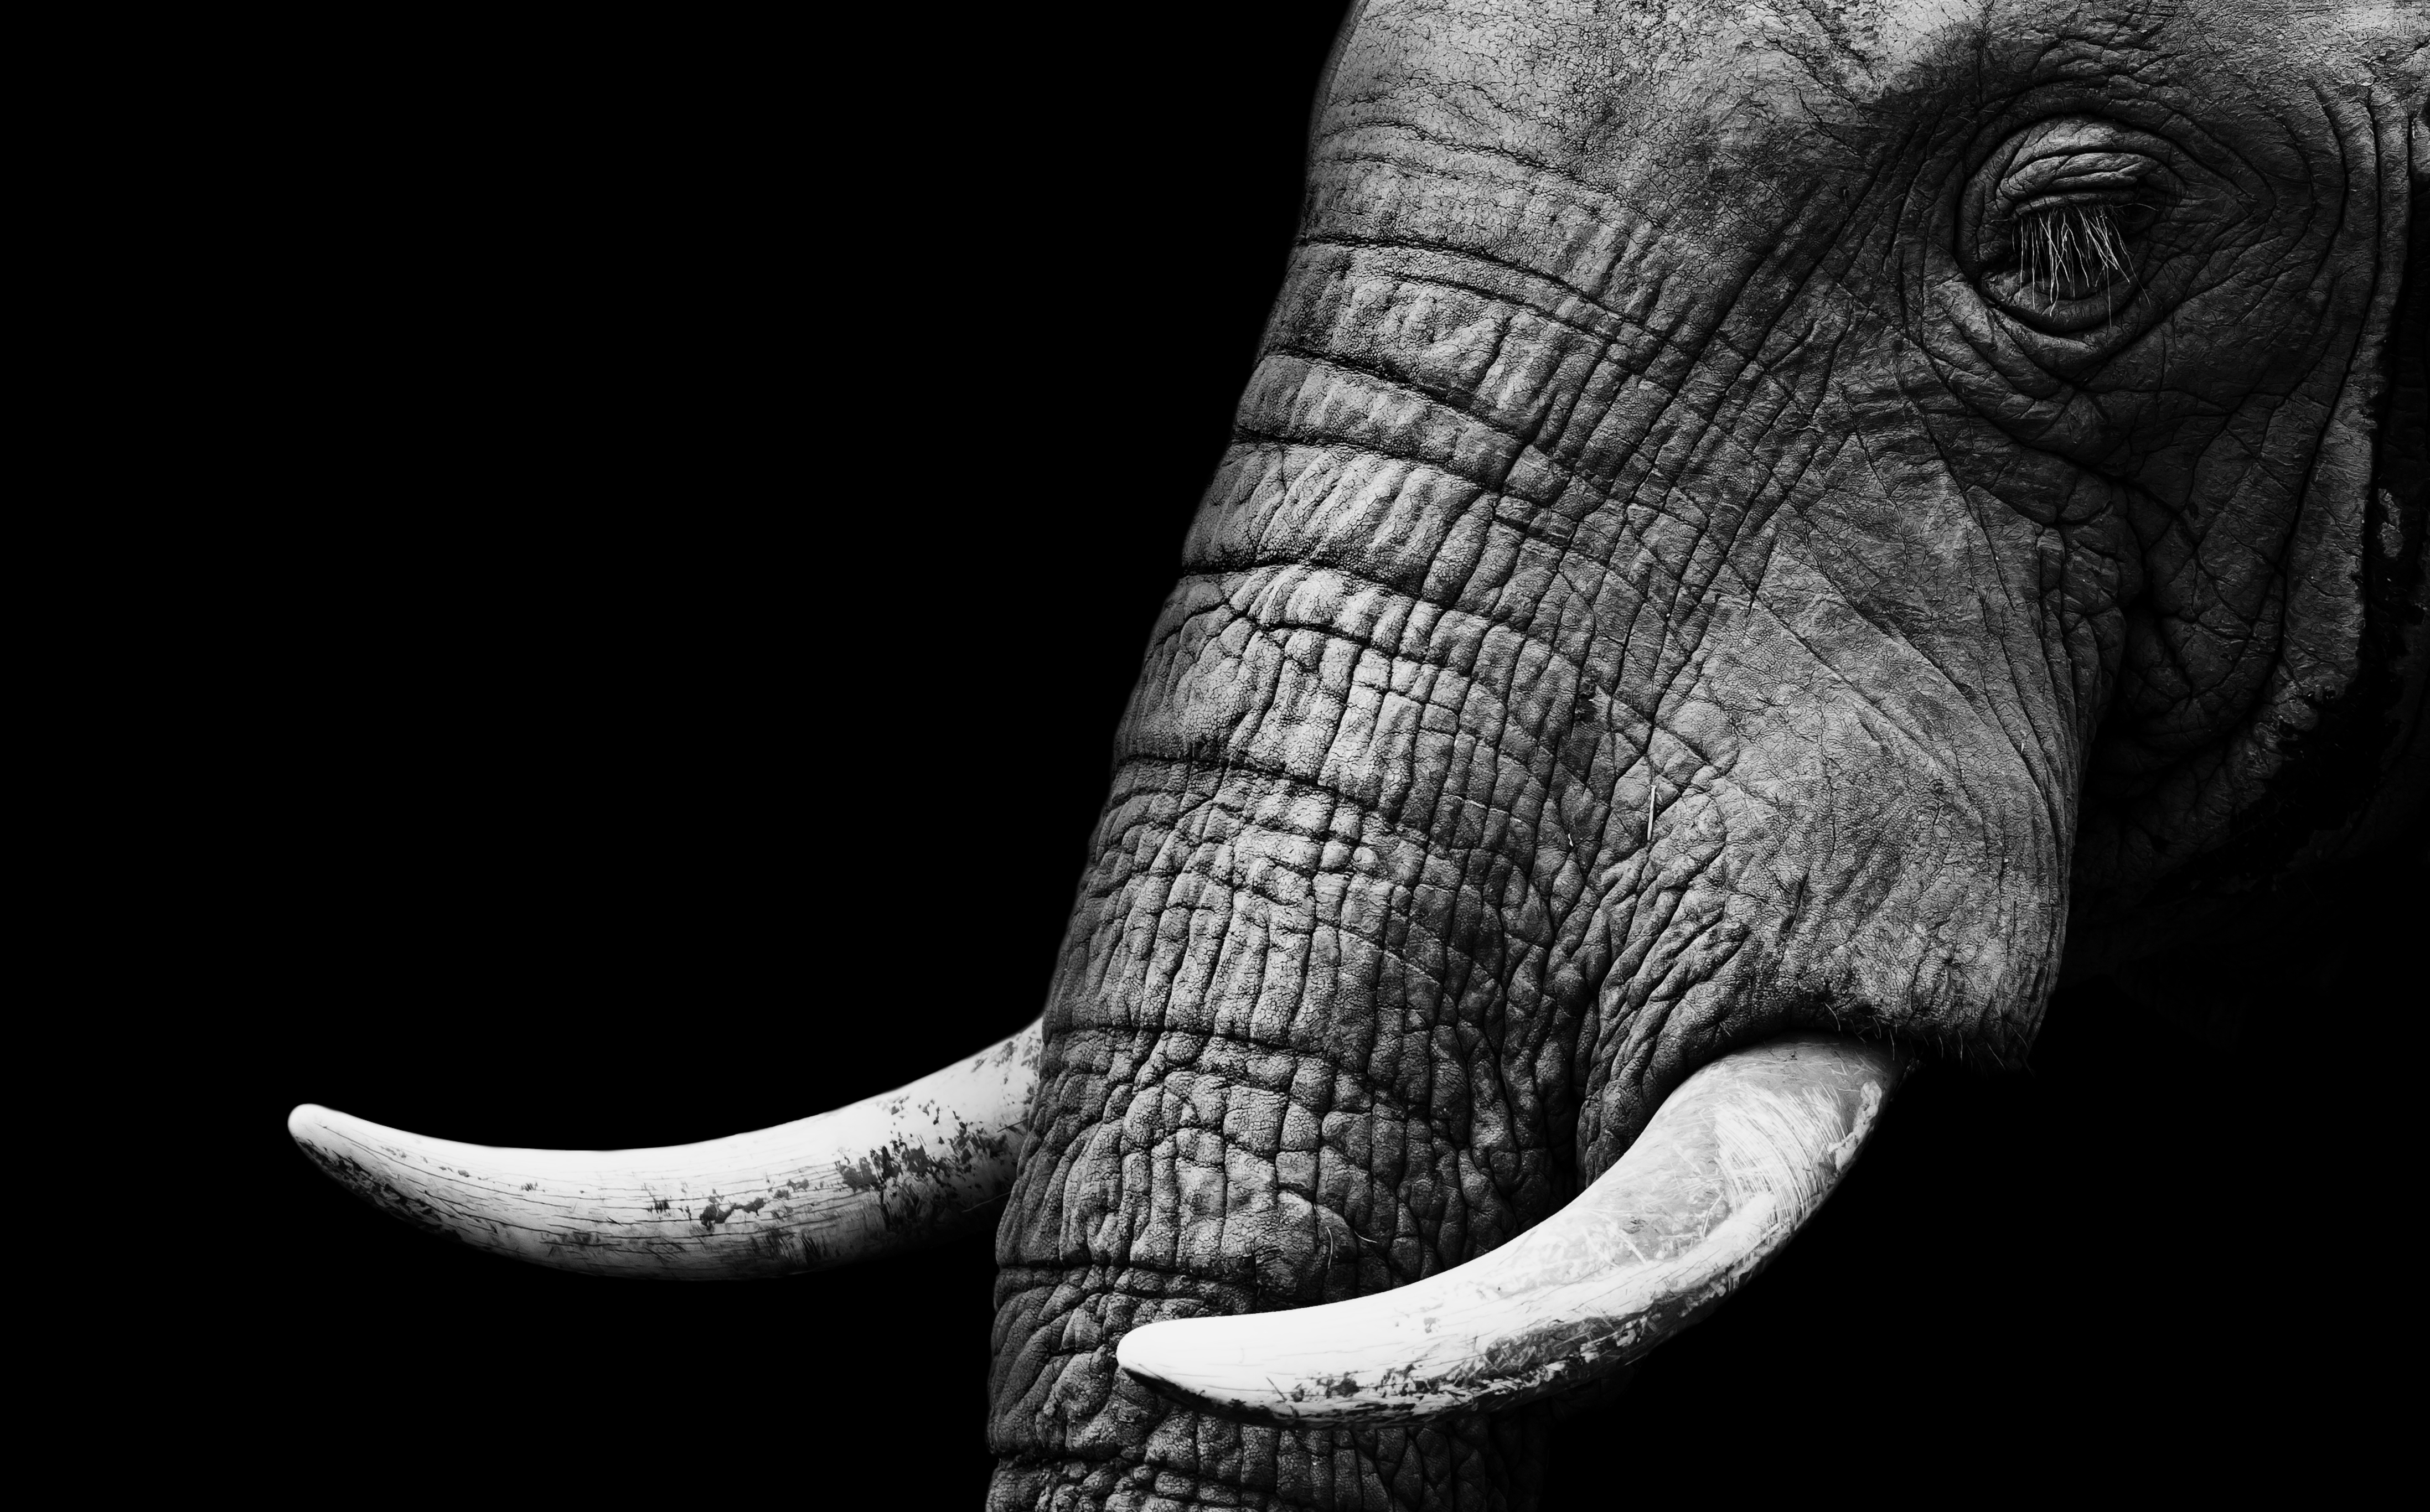elephant: (265, 0, 2430, 1512)
